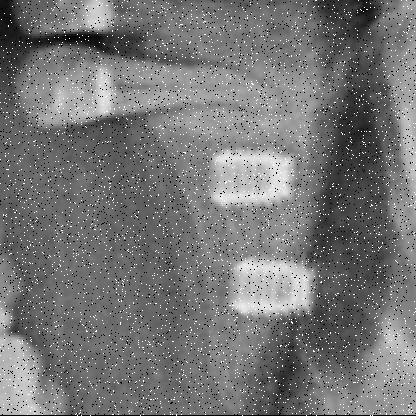Bicon: (217, 245, 355, 329), (192, 135, 328, 220)
